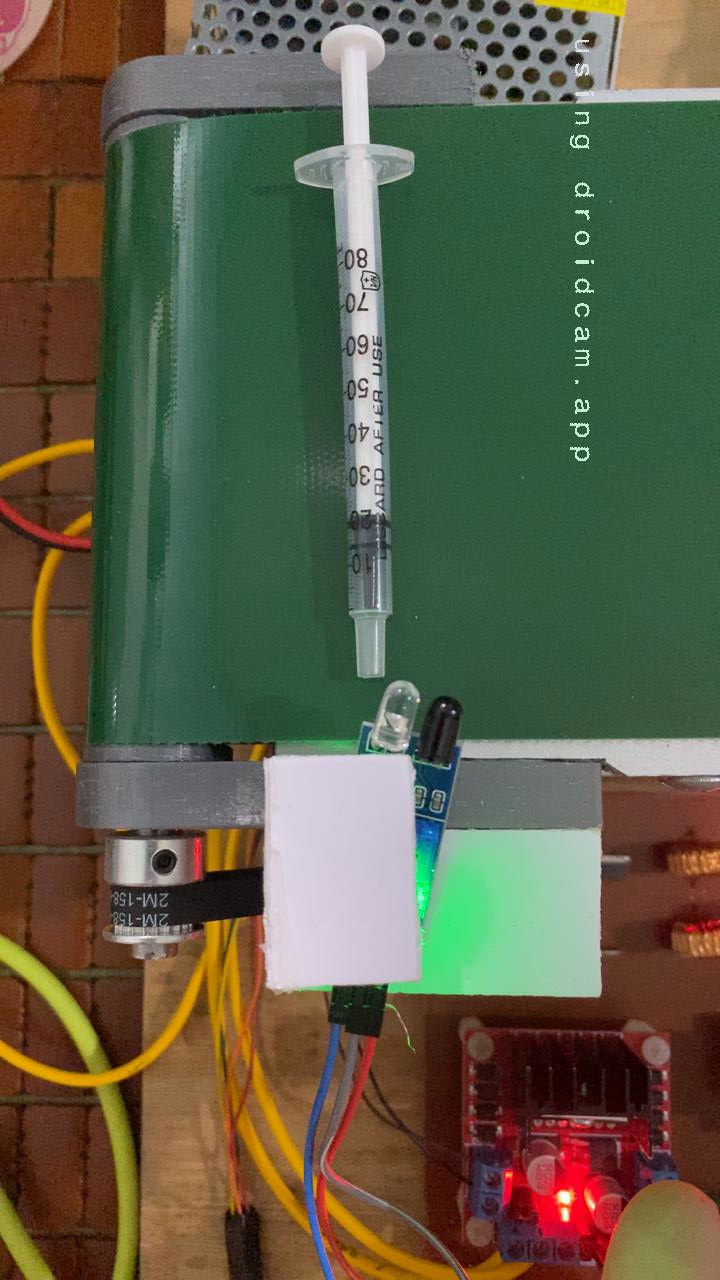syringe: (0, 105, 313, 739)
